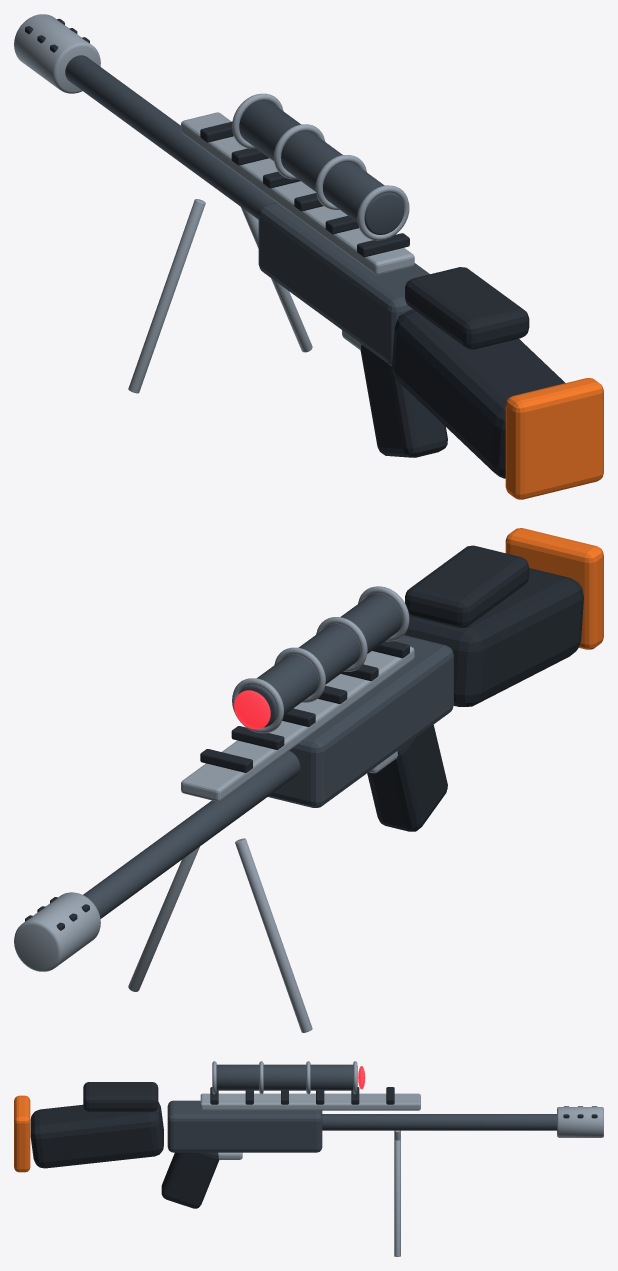
File: cyber_sniper_rifle.glb
3 views of the same model, one above another, from view 1: azimuth 30°, elevation 25°; view 2: azimuth 150°, elevation 25°; view 3: azimuth 270°, elevation 25° (orthographic). The views are drawn at different scales.
Parts seen in each view (by area): view 1: Sniper_Stock, Sniper_Receiver, Sniper_ButtPad, Sniper_ScopeTube, Sniper_Barrel, Sniper_CheekRest, Sniper_TopRail, Sniper_PistolGrip, Sniper_MuzzleBrake, Sniper_BipodLeft, Sniper_BipodRight, Sniper_ScopeRing_1 (+4 smaller); view 2: Sniper_Receiver, Sniper_Stock, Sniper_Barrel, Sniper_CheekRest, Sniper_ScopeTube, Sniper_TopRail, Sniper_PistolGrip, Sniper_ButtPad, Sniper_MuzzleBrake, Sniper_BipodLeft, Sniper_BipodRight, Sniper_ScopeLens (+6 smaller); view 3: Sniper_Stock, Sniper_Receiver, Sniper_Barrel, Sniper_ScopeTube, Sniper_TopRail, Sniper_PistolGrip, Sniper_CheekRest, Sniper_MuzzleBrake, Sniper_ButtPad, Sniper_BipodRight.
Part boxes in pixels (<box>): Sniper_Stock: <box>392,309,565,478</box>; Sniper_Receiver: <box>258,202,429,366</box>; Sniper_ButtPad: <box>505,378,603,499</box>; Sniper_ScopeTube: <box>239,100,404,234</box>; Sniper_Barrel: <box>65,55,275,219</box>; Sniper_CheekRest: <box>405,267,529,349</box>; Sniper_TopRail: <box>181,112,414,275</box>; Sniper_PistolGrip: <box>360,344,447,457</box>; Sniper_MuzzleBrake: <box>14,14,100,93</box>; Sniper_BipodLeft: <box>128,199,205,393</box>; Sniper_BipodRight: <box>241,207,312,352</box>; Sniper_ScopeRing_1: <box>357,185,409,240</box>; Sniper_Receiver: <box>268,635,453,807</box>; Sniper_Stock: <box>404,568,583,706</box>; Sniper_Barrel: <box>83,751,300,918</box>; Sniper_CheekRest: <box>405,545,529,627</box>; Sniper_ScopeTube: <box>239,593,402,727</box>; Sniper_TopRail: <box>181,646,414,801</box>; Sniper_PistolGrip: <box>367,725,447,831</box>; Sniper_ButtPad: <box>505,528,603,649</box>; Sniper_MuzzleBrake: <box>14,892,100,971</box>; Sniper_BipodLeft: <box>235,838,312,1032</box>; Sniper_BipodRight: <box>128,846,199,991</box>; Sniper_ScopeLens: <box>234,690,270,729</box>; Sniper_Stock: <box>30,1102,163,1168</box>; Sniper_Receiver: <box>167,1100,322,1152</box>; Sniper_Barrel: <box>322,1114,556,1130</box>; Sniper_ScopeTube: <box>216,1064,357,1090</box>; Sniper_TopRail: <box>200,1093,420,1110</box>; Sniper_PistolGrip: <box>161,1152,219,1208</box>; Sniper_CheekRest: <box>83,1082,158,1111</box>; Sniper_MuzzleBrake: <box>557,1107,603,1137</box>; Sniper_ButtPad: <box>14,1095,30,1172</box>; Sniper_BipodRight: <box>394,1140,400,1256</box>.
Bounding box in the file's own units: 0.5045 × 0.8055 × 2.51.
